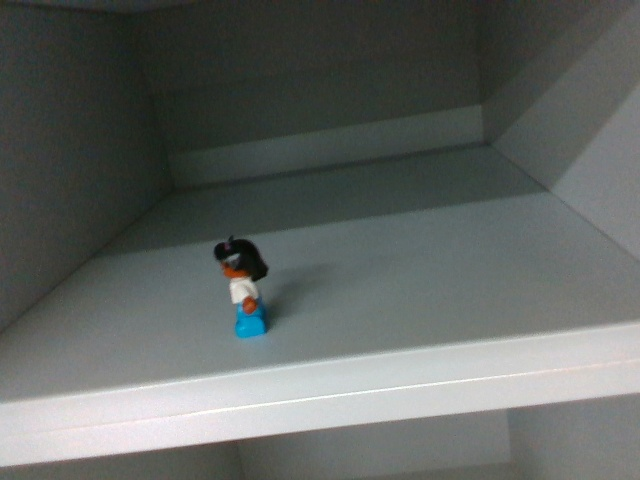people: (208, 234, 275, 340)
